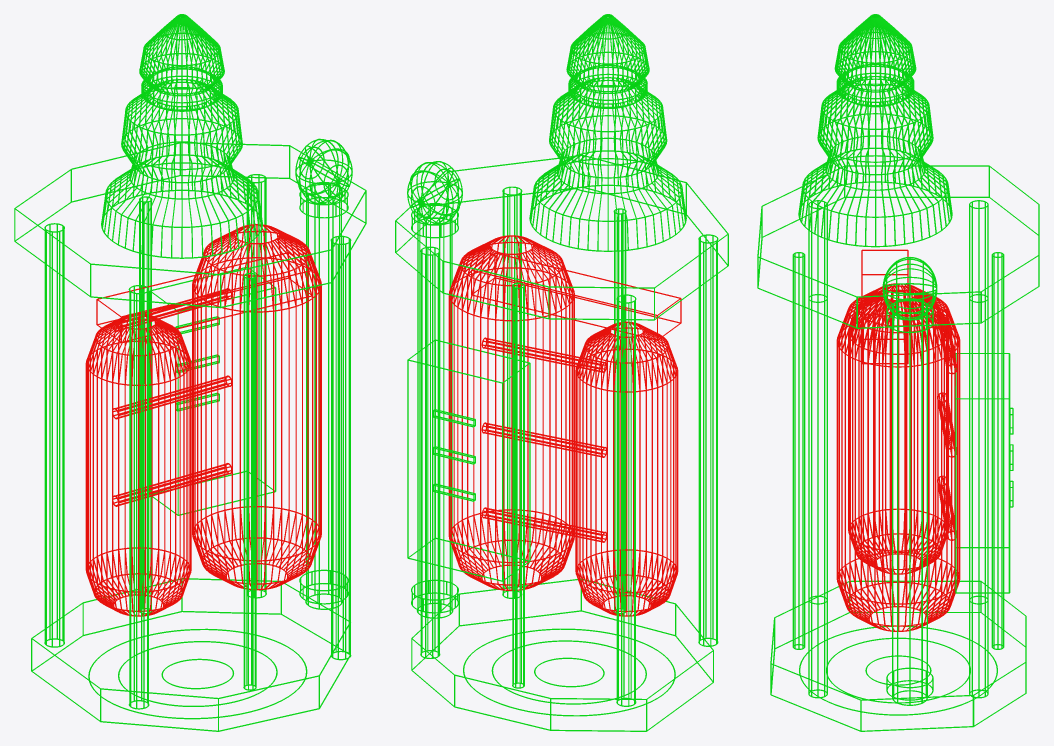
Rendered from turret-optimiser-highlight-flux-capacitor-system.glb.
3 renders of one model, left to right at view 1: azimuth 30°, elevation 25°; view 2: azimuth 150°, elevation 25°; view 3: azimuth 270°, elevation 25°, orthographic. The views are drawn at different scales.
Visible parts, largest first — view 1: flux-capacitor-system technical wire, chassis technical wire, stored-energy-output technical wire, manual-pulse-control technical wire; view 2: flux-capacitor-system technical wire, chassis technical wire, stored-energy-output technical wire, manual-pulse-control technical wire; view 3: flux-capacitor-system technical wire, chassis technical wire, stored-energy-output technical wire, manual-pulse-control technical wire.
Boxes of the visible parts, bbox=[...] form: flux-capacitor-system technical wire: bbox=[85, 224, 321, 616]; chassis technical wire: bbox=[14, 142, 366, 731]; stored-energy-output technical wire: bbox=[101, 14, 262, 258]; manual-pulse-control technical wire: bbox=[295, 138, 352, 609]; flux-capacitor-system technical wire: bbox=[448, 235, 681, 616]; chassis technical wire: bbox=[395, 154, 728, 731]; stored-energy-output technical wire: bbox=[529, 14, 686, 251]; manual-pulse-control technical wire: bbox=[407, 161, 462, 618]; flux-capacitor-system technical wire: bbox=[836, 249, 960, 631]; chassis technical wire: bbox=[757, 165, 1039, 731]; stored-energy-output technical wire: bbox=[798, 14, 952, 247]; manual-pulse-control technical wire: bbox=[882, 257, 937, 705].
Bounding box in the file's own units: 0.8424 × 1.85 × 0.738.
